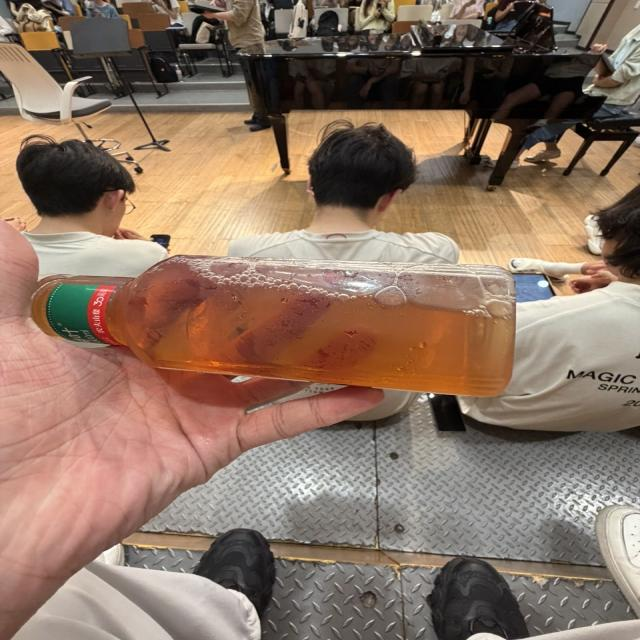high: (33, 255, 514, 396)
